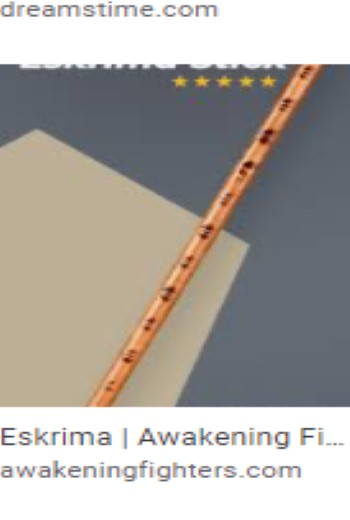baston_e: (83, 76, 319, 399)
baston_v: (282, 52, 329, 84), (79, 386, 113, 428)
